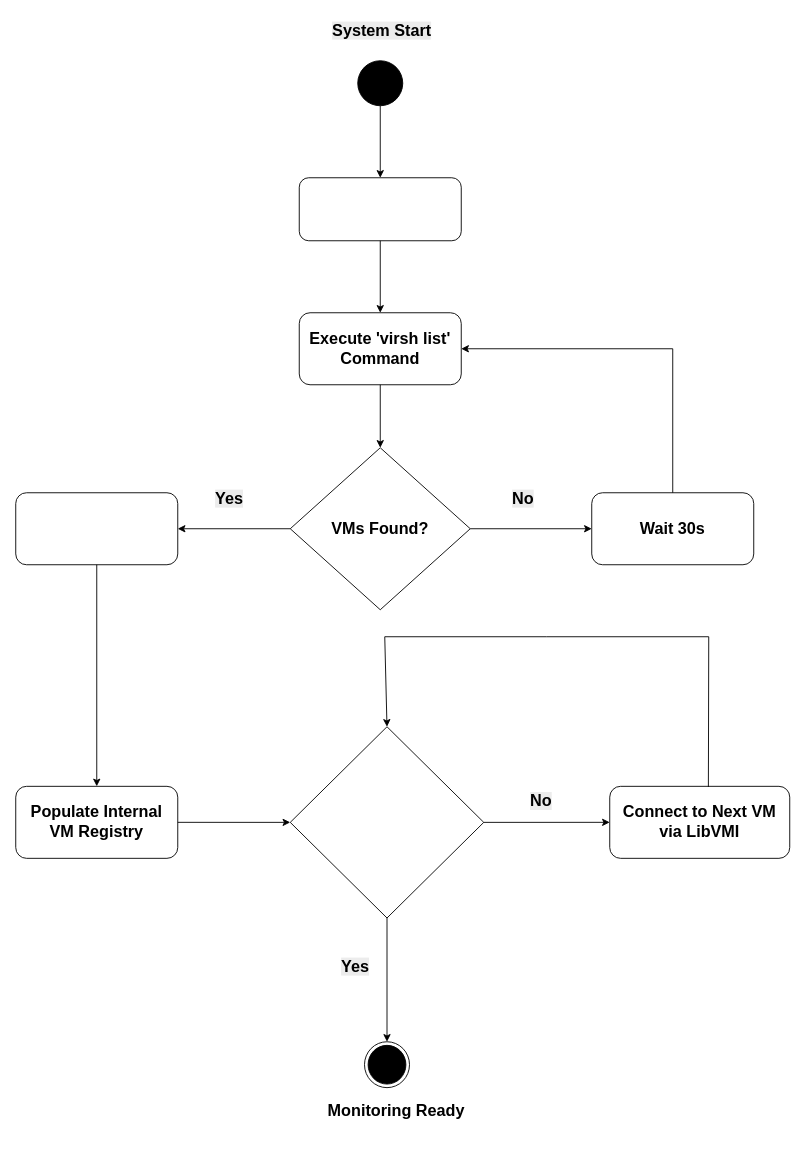
Image size: 806x1156. Some labels were removed from this diagram. Each missing label, with the box of its shape:
All VMs Connected?: (289, 726, 484, 918)
Initialize LibVMI Backend: (298, 177, 461, 241)
Parse VM Names & UUIDs: (15, 492, 178, 565)
